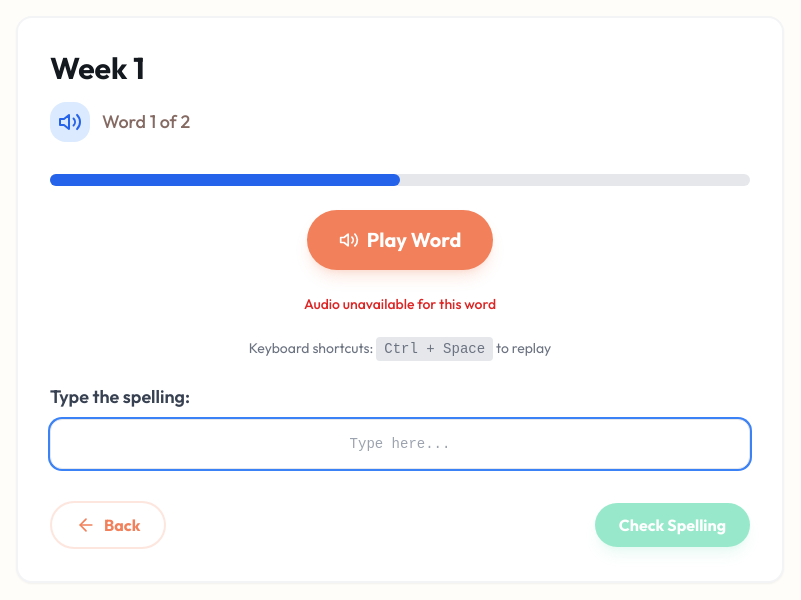
Test: SpellingPractice bound playback › shows an English error when bound audio fails and does not fall back
The image size is (801, 600).
Expected: the text "Audio unavailable for this word" is shown, [304,295,496,313]
Click the button "Play Word". click: (400,240)
box: [307,210,493,270]
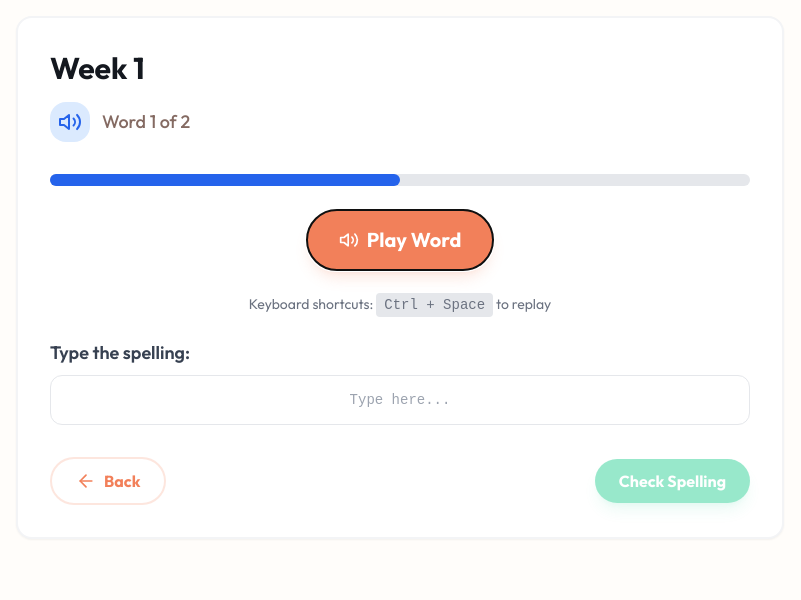
Expected: the text "Audio unavailable for this word" is gone
